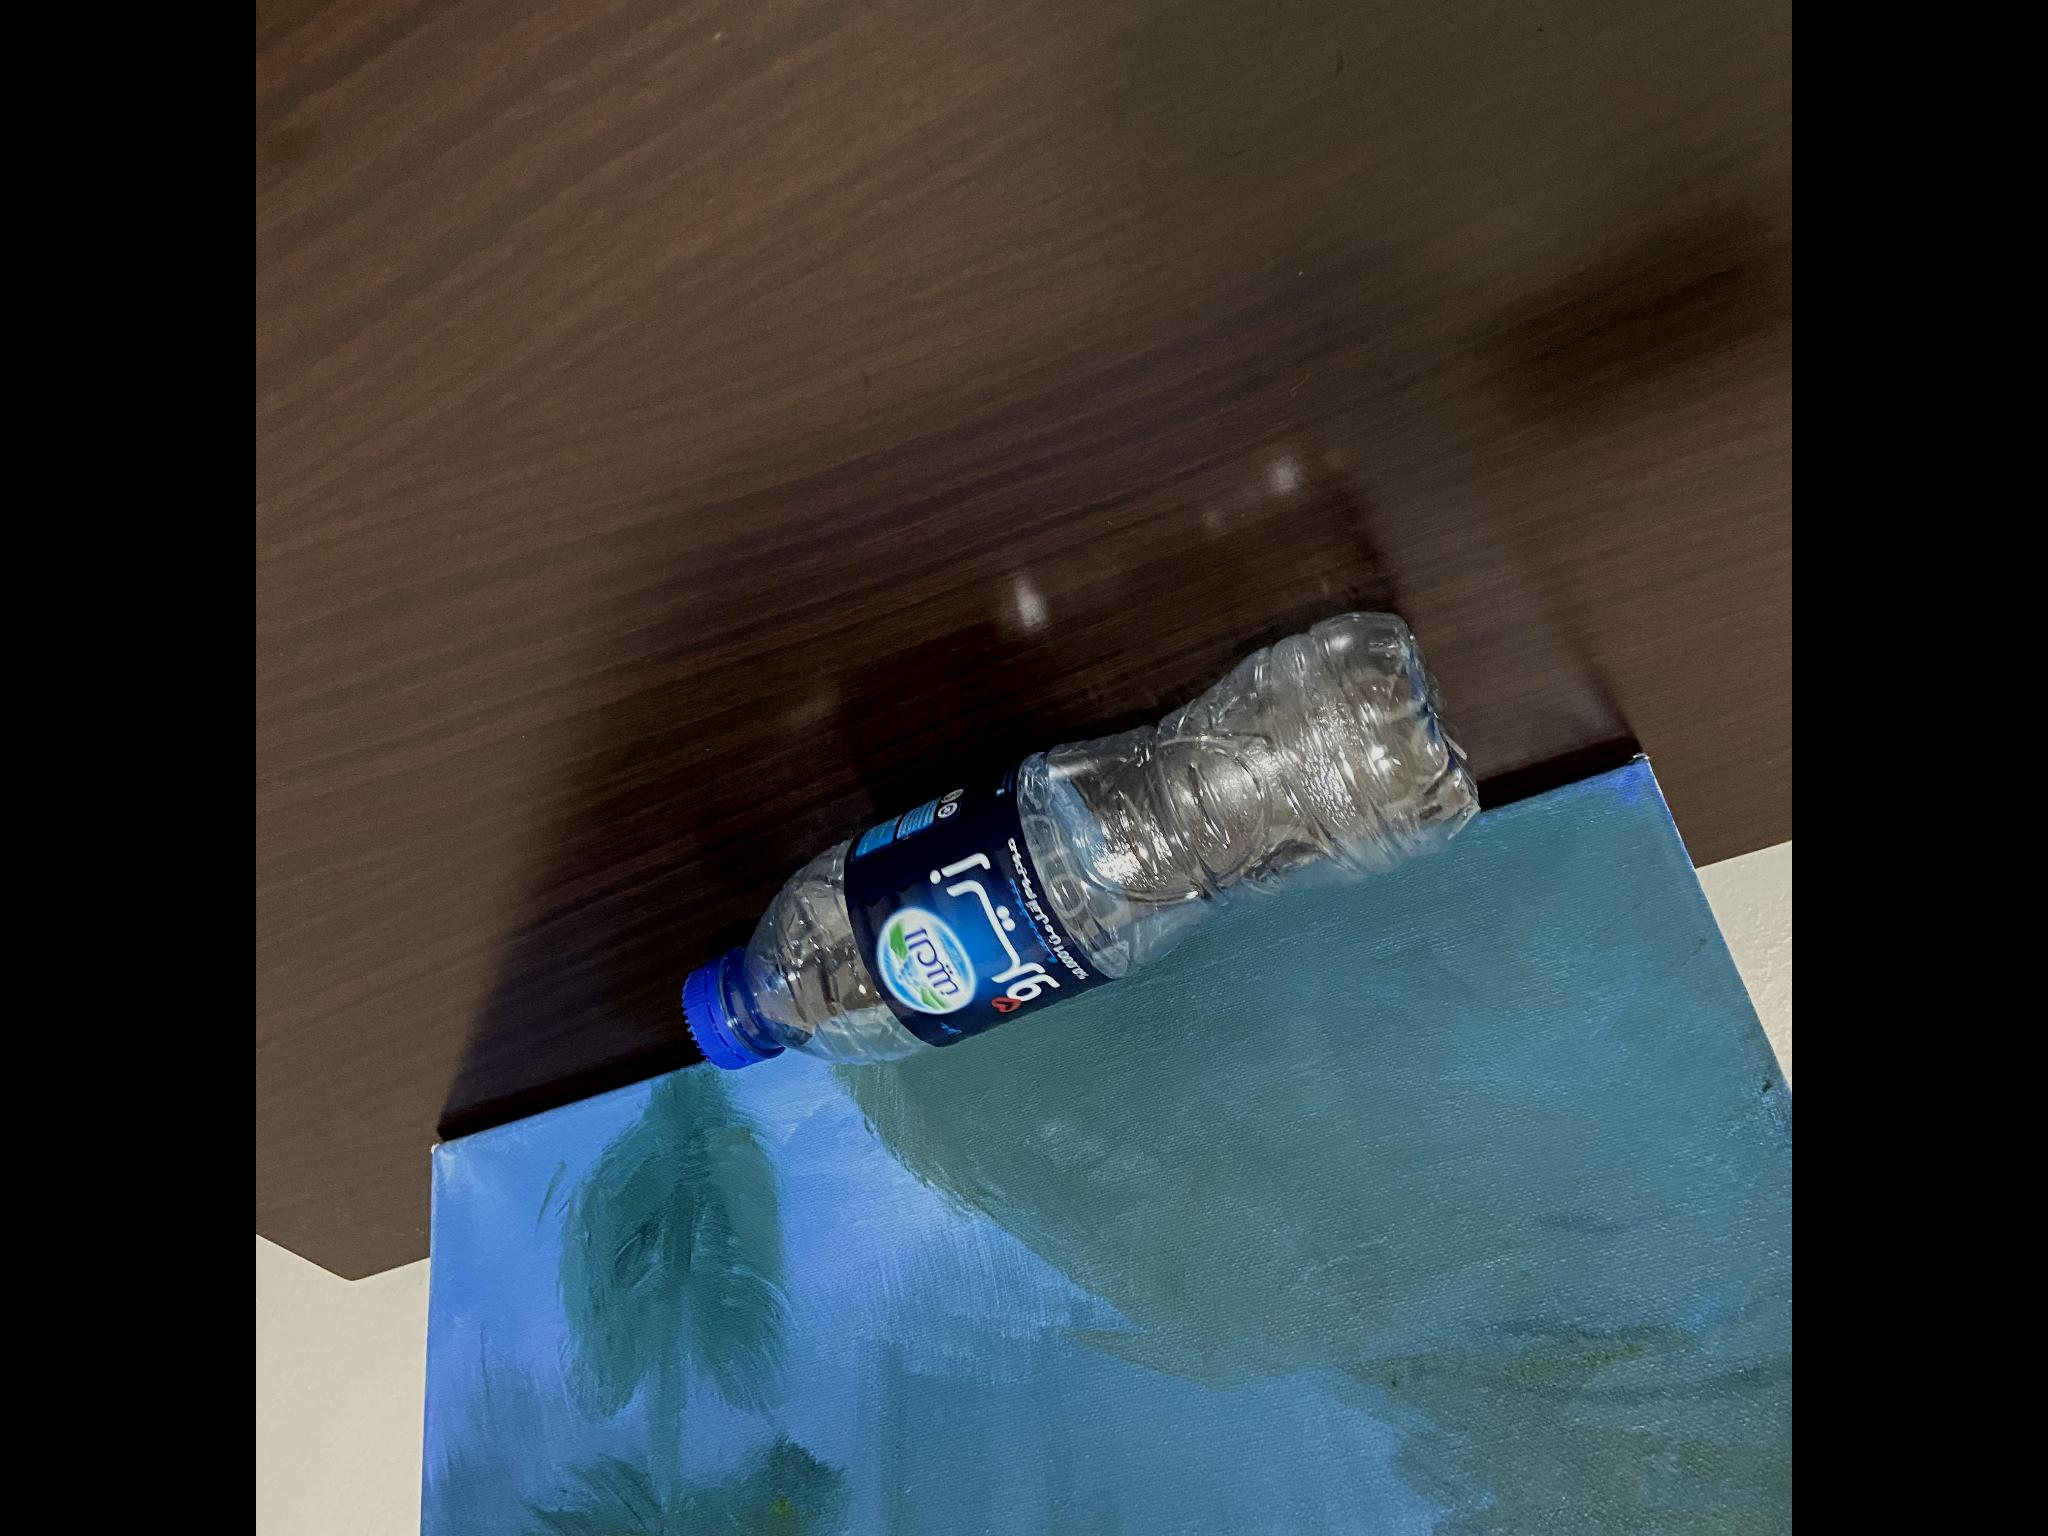bottle: (679, 594, 1480, 1091)
